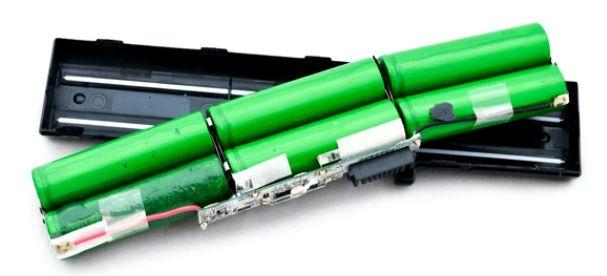battery: (31, 28, 571, 264)
